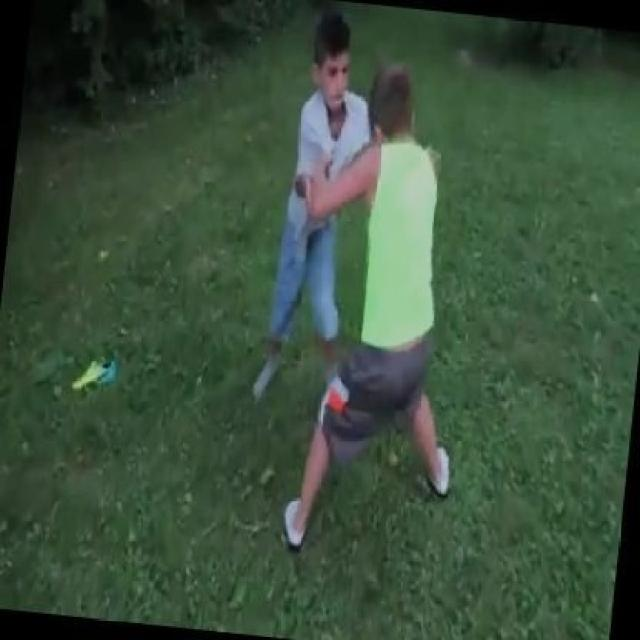fight: (217, 9, 509, 566)
